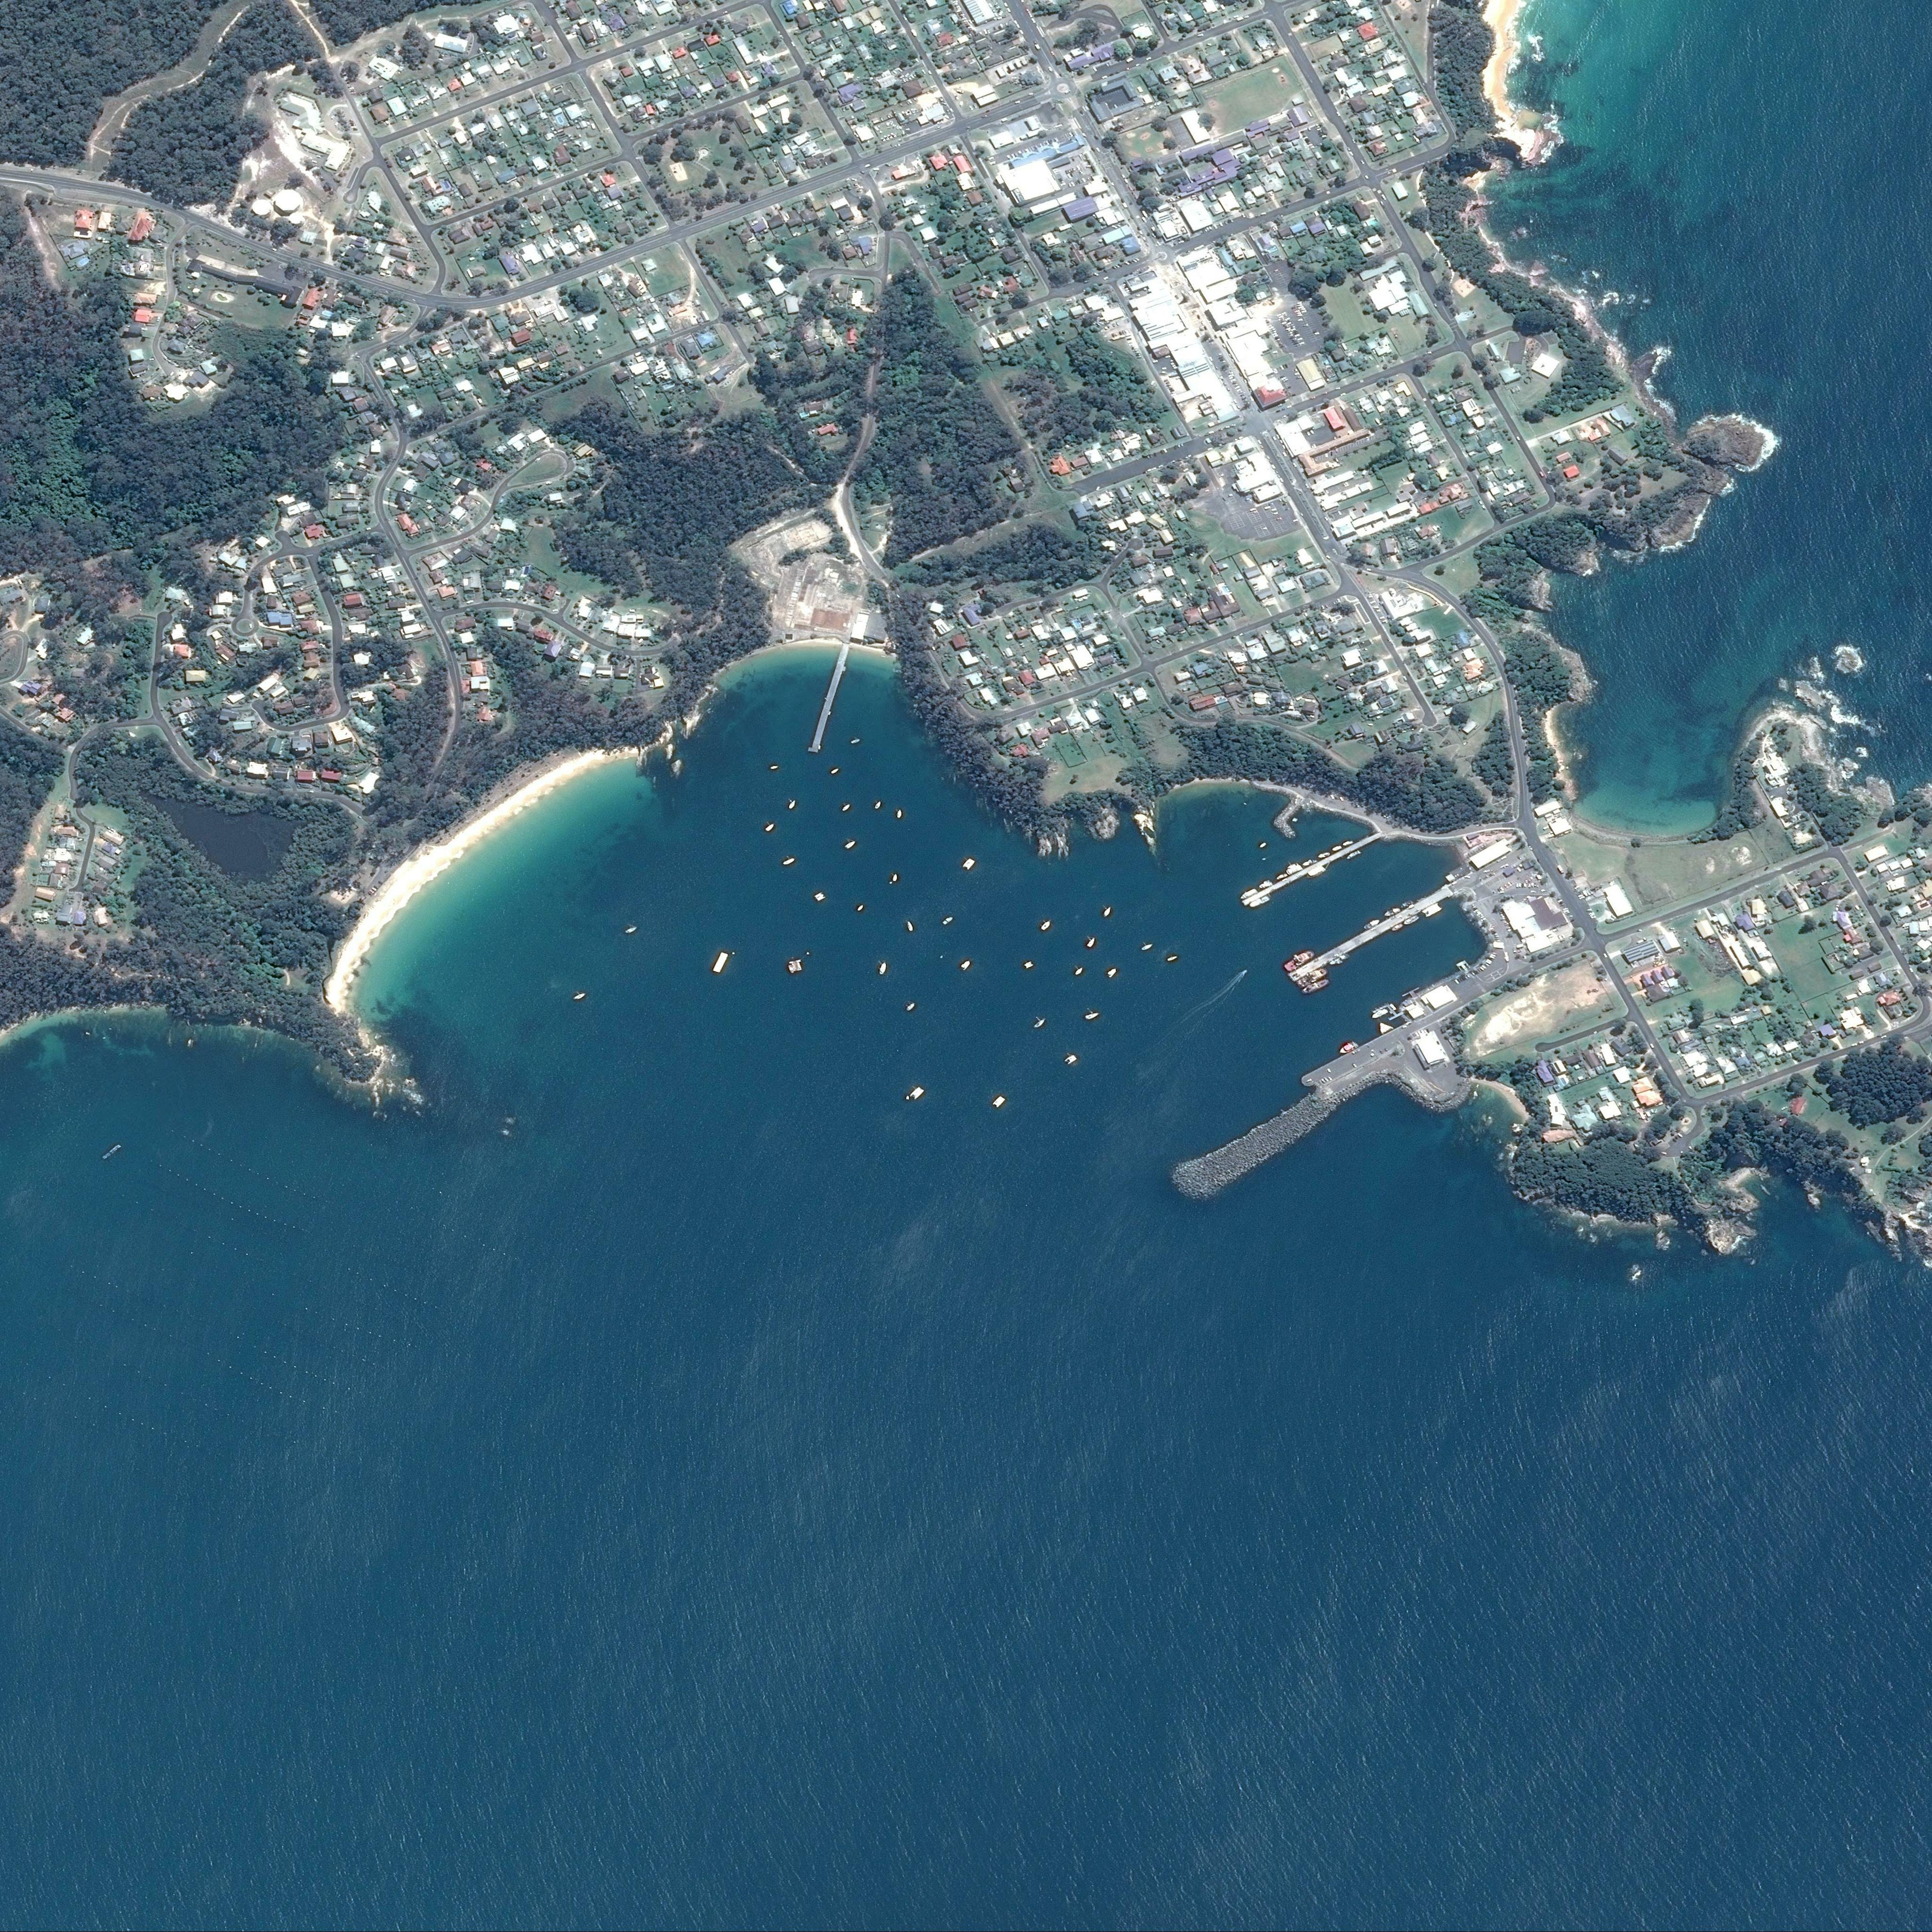harbor: (1154, 1007, 1491, 1258), (1284, 881, 1460, 984), (1242, 832, 1384, 908), (805, 640, 855, 755), (1270, 794, 1322, 844), (1371, 1000, 1410, 1033), (1401, 985, 1424, 1001), (1454, 959, 1472, 973)
ship: (1281, 947, 1318, 973), (1295, 964, 1330, 991), (1300, 978, 1332, 996), (711, 950, 731, 975), (1247, 895, 1272, 909), (1238, 886, 1260, 902), (1362, 916, 1382, 932), (1382, 906, 1403, 920), (787, 959, 805, 975), (991, 1095, 1008, 1111), (1300, 856, 1320, 870), (1403, 913, 1422, 927), (1338, 1042, 1357, 1056), (961, 856, 977, 872), (909, 1086, 925, 1100), (1398, 899, 1415, 911), (1371, 1008, 1389, 1021), (1256, 879, 1276, 890), (1040, 918, 1054, 932), (1106, 966, 1120, 980), (571, 991, 587, 1003), (1346, 849, 1362, 862), (1329, 955, 1345, 968), (1139, 941, 1155, 954), (1286, 865, 1304, 876), (959, 959, 973, 971), (941, 915, 955, 927), (1033, 1017, 1047, 1030), (1063, 1054, 1077, 1067), (878, 961, 888, 977), (1274, 872, 1290, 883), (1316, 851, 1334, 860), (1085, 1012, 1102, 1021), (764, 821, 777, 833), (1085, 936, 1097, 948), (782, 856, 796, 867), (814, 892, 828, 902), (1330, 844, 1345, 855), (787, 798, 798, 810), (844, 840, 856, 851), (1074, 966, 1086, 977), (1102, 906, 1113, 918), (1391, 924, 1405, 932), (1288, 862, 1300, 870), (906, 920, 915, 932), (1341, 840, 1355, 847), (1166, 955, 1180, 962), (787, 964, 796, 975), (906, 1003, 916, 1012), (830, 766, 840, 775), (1024, 961, 1035, 970), (842, 803, 851, 814), (1258, 840, 1269, 849), (856, 904, 865, 913), (874, 801, 883, 810), (851, 738, 862, 745), (892, 872, 899, 883), (1242, 968, 1249, 977), (770, 764, 780, 770), (897, 809, 902, 819)
